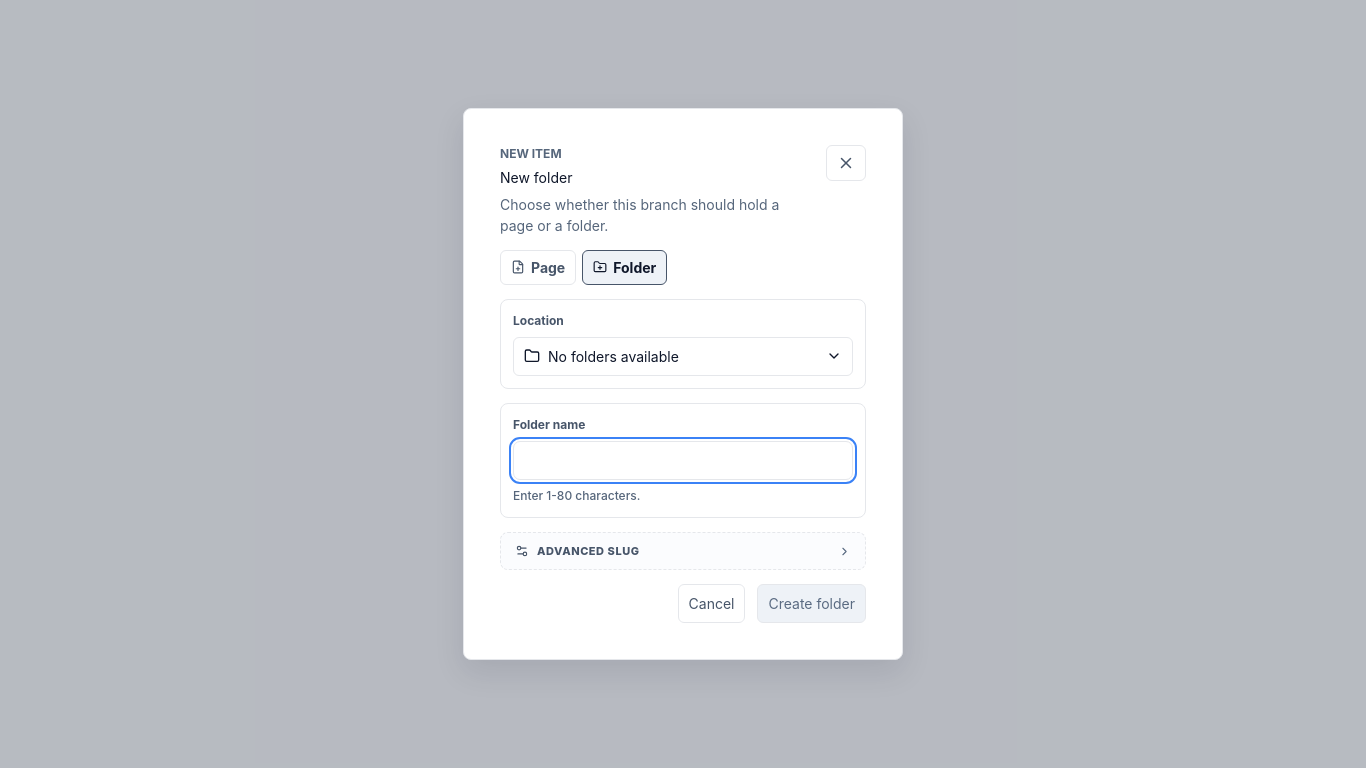
it: NewItemDialog › keeps the creation dialog open while expanding a location branch
Click the button with aria-label "Location".
click(613, 356)  # box [513,337,853,376]
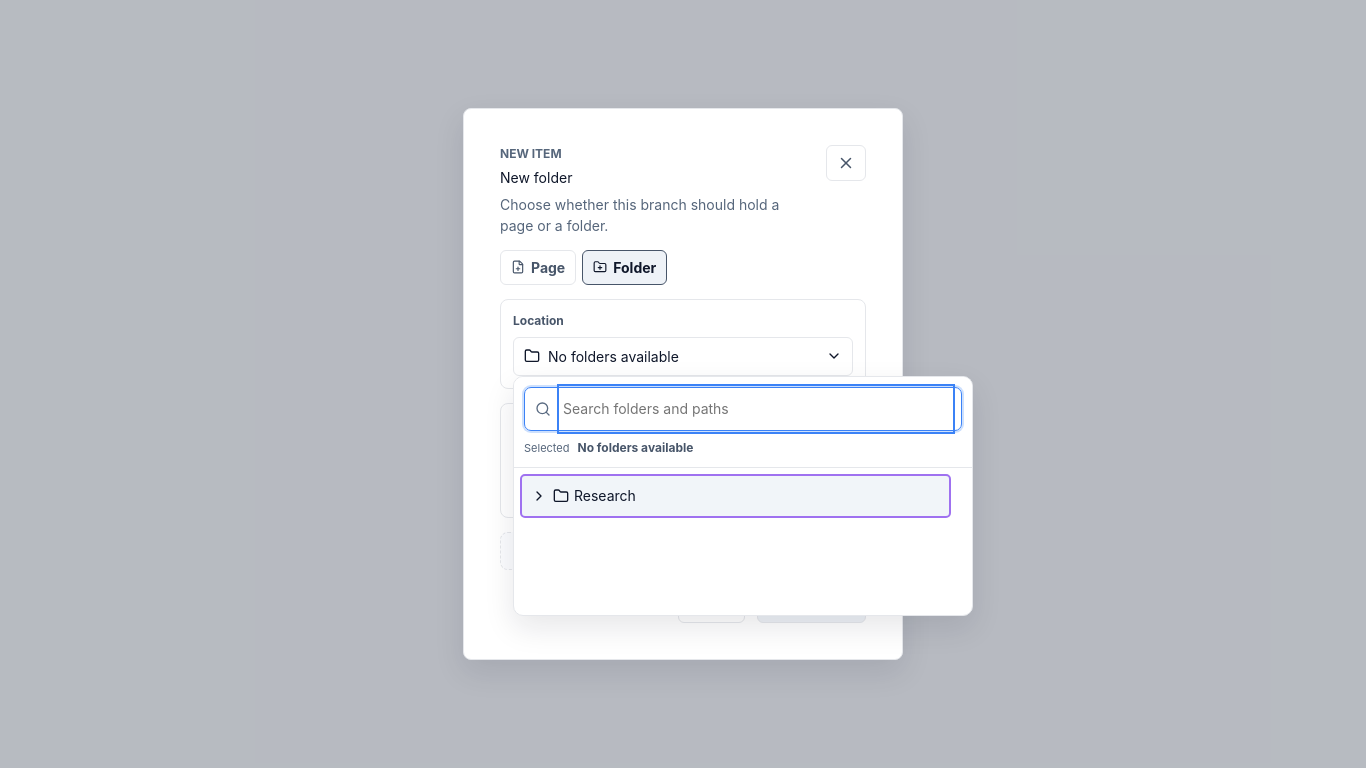
Click the button named "Expand Research".
click(539, 496)  # box [528,485,550,507]
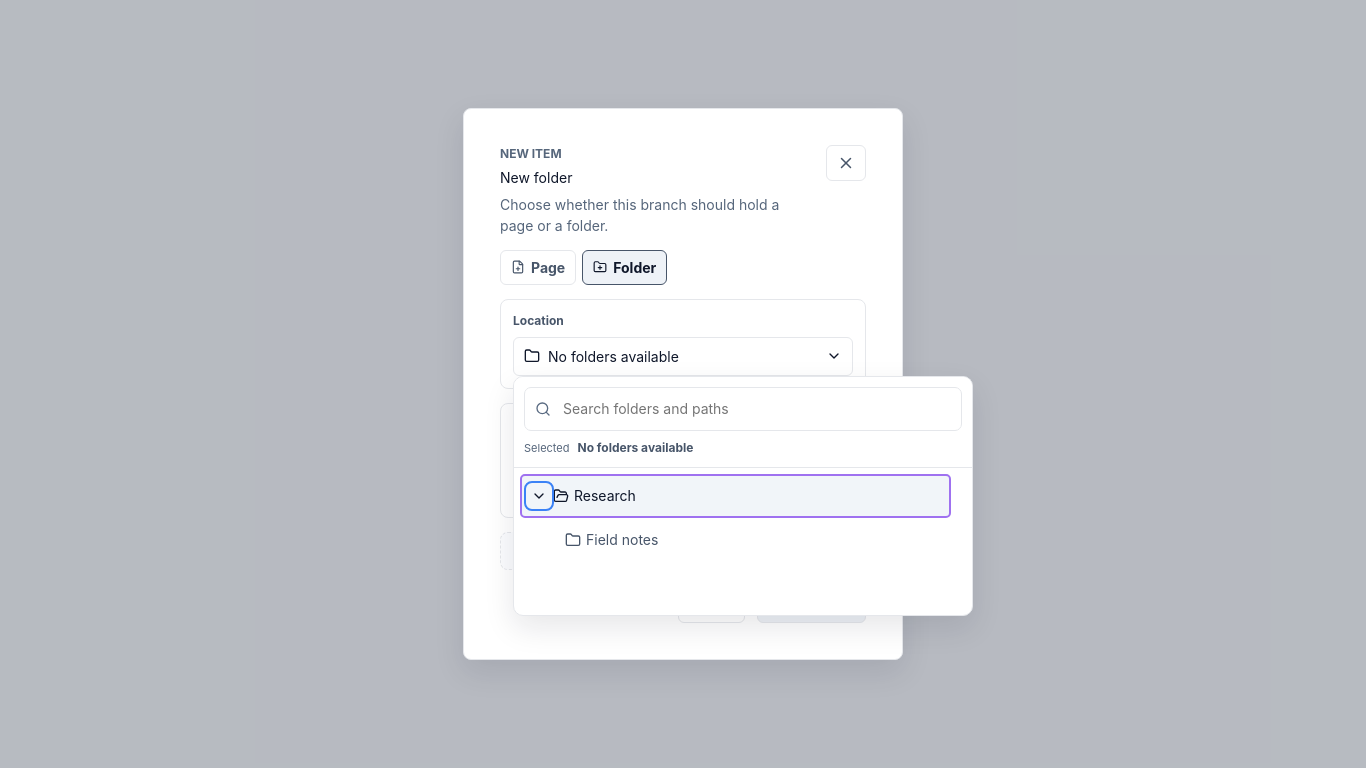
Expected: the dialog is shown, [463,108,903,660]
Now the list item "Field notes" is shown, box [565,531,658,548]
Now the button named "Expand Research" is expanded, box [528,485,550,507]
